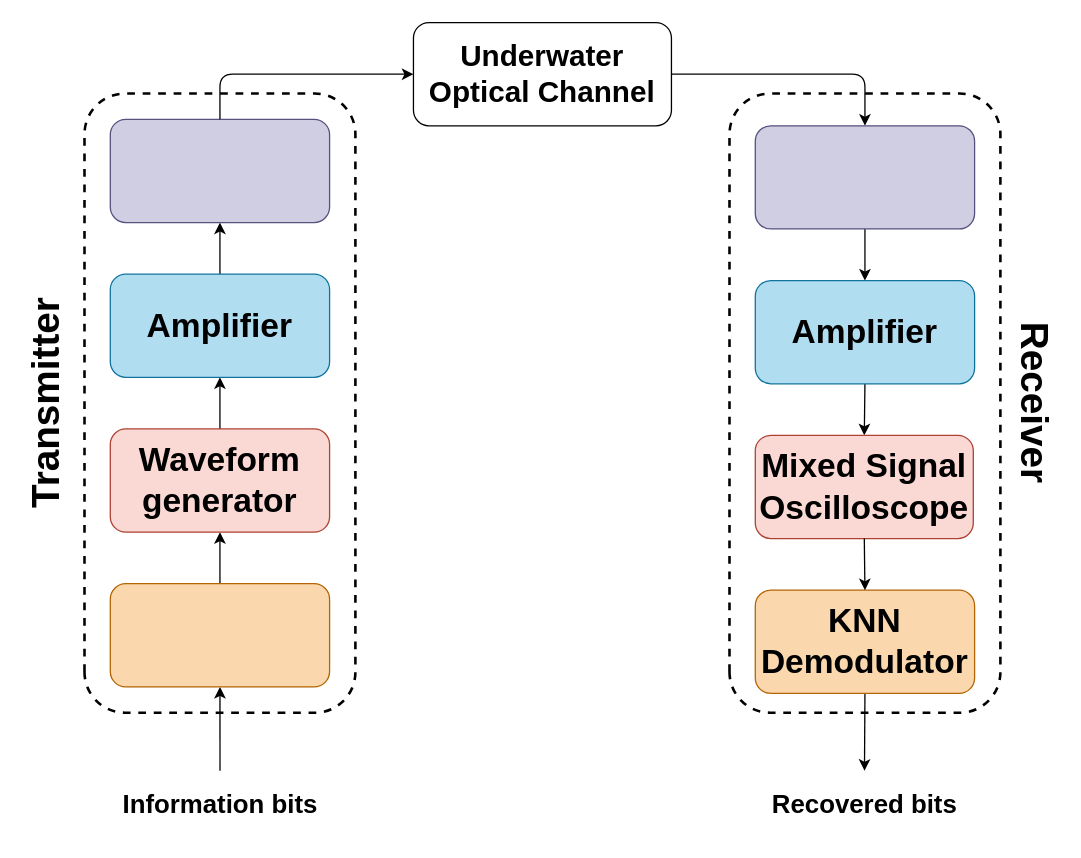
Some shapes in this 1081 by 858 pixel diagram are drawn without their labels. Here are the shapes that lost their labels. From the top down, the box of each, then its label:
(109, 118, 330, 223): LD
(754, 124, 975, 229): APD
(109, 582, 330, 687): Modulator
